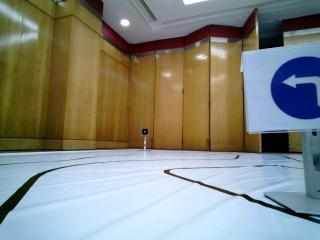left: (249, 52, 320, 124)
